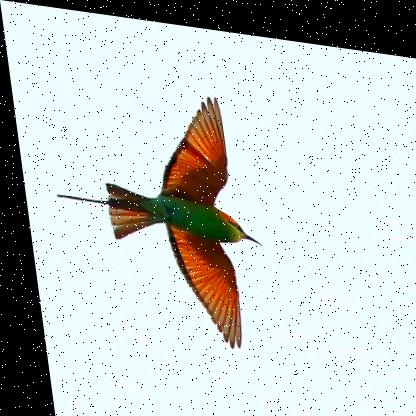Burung: (38, 70, 266, 346)
